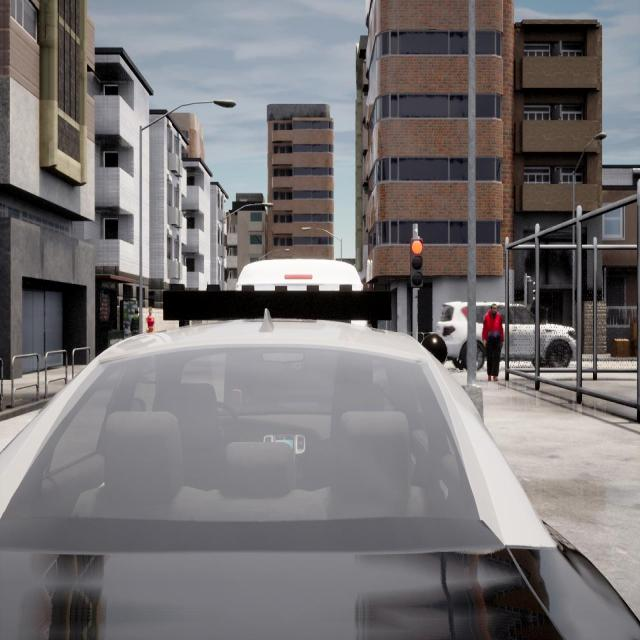Pedestrian: (482, 303, 504, 381), (132, 308, 140, 337), (147, 306, 155, 333)
Vehicle: (0, 324, 640, 638), (436, 302, 577, 368), (236, 259, 363, 291)
traffic_light: (410, 240, 423, 287), (528, 280, 535, 304)
